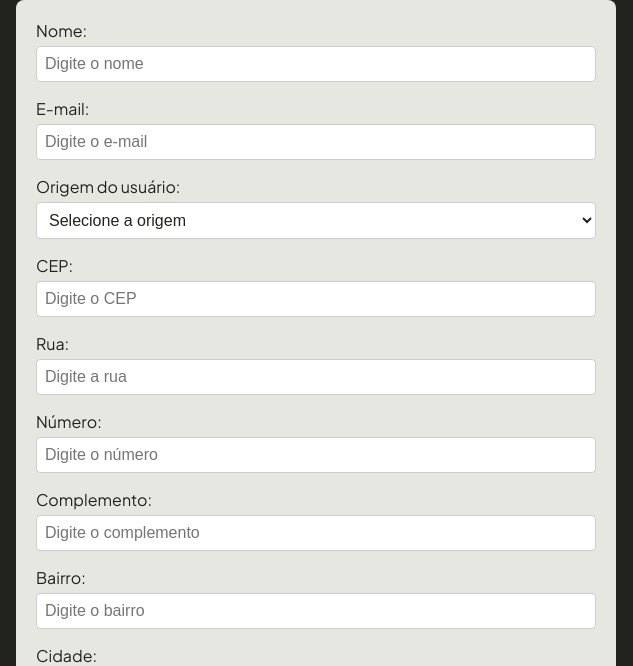
FormRegisterUser › deve exibir mensagem de erro ao sair do campo de nome com valor inválido
Type "Jo" into the field with id "name".
click(316, 64); type("Jo")  # box [36,46,596,82]
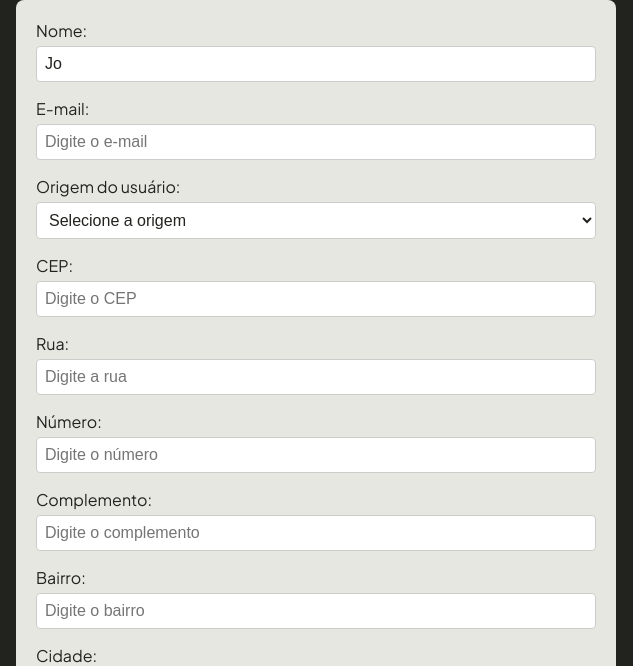
Leave the field with id "name", box [36,46,596,82]
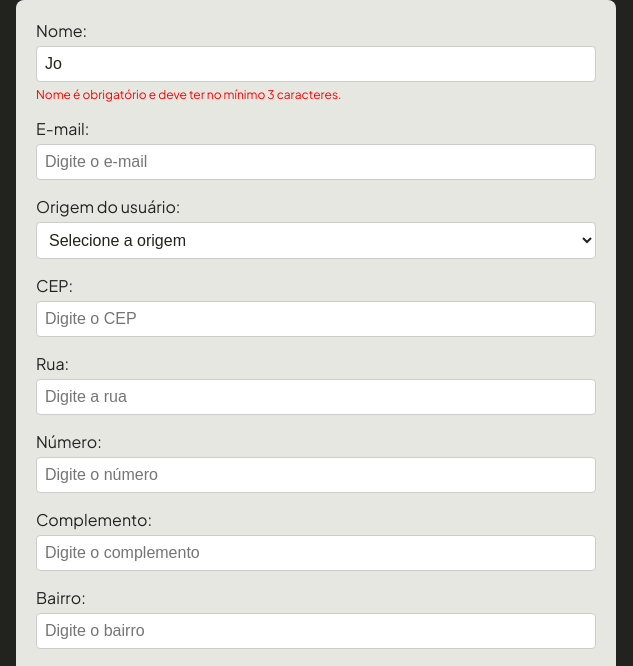
Result: the text with class "error" reads "Nome é obrigatório e deve ter no mínimo 3 caracteres." at [36,87,342,102]
